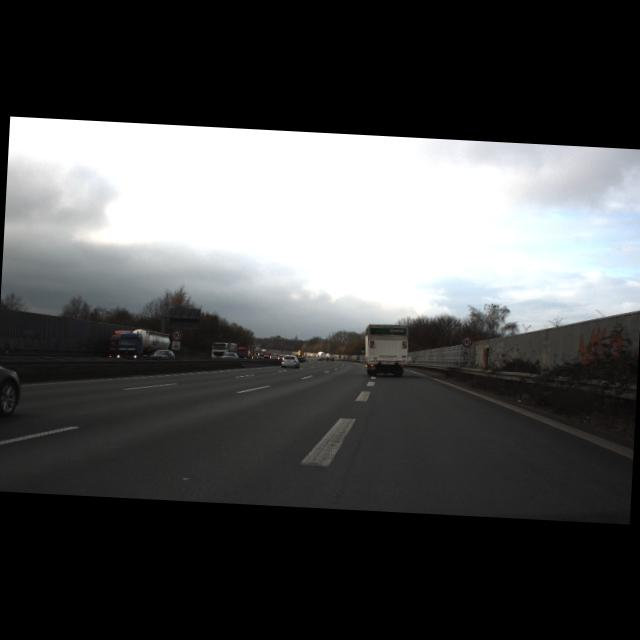prohibitory: (171, 328, 183, 341), (461, 334, 473, 347)
